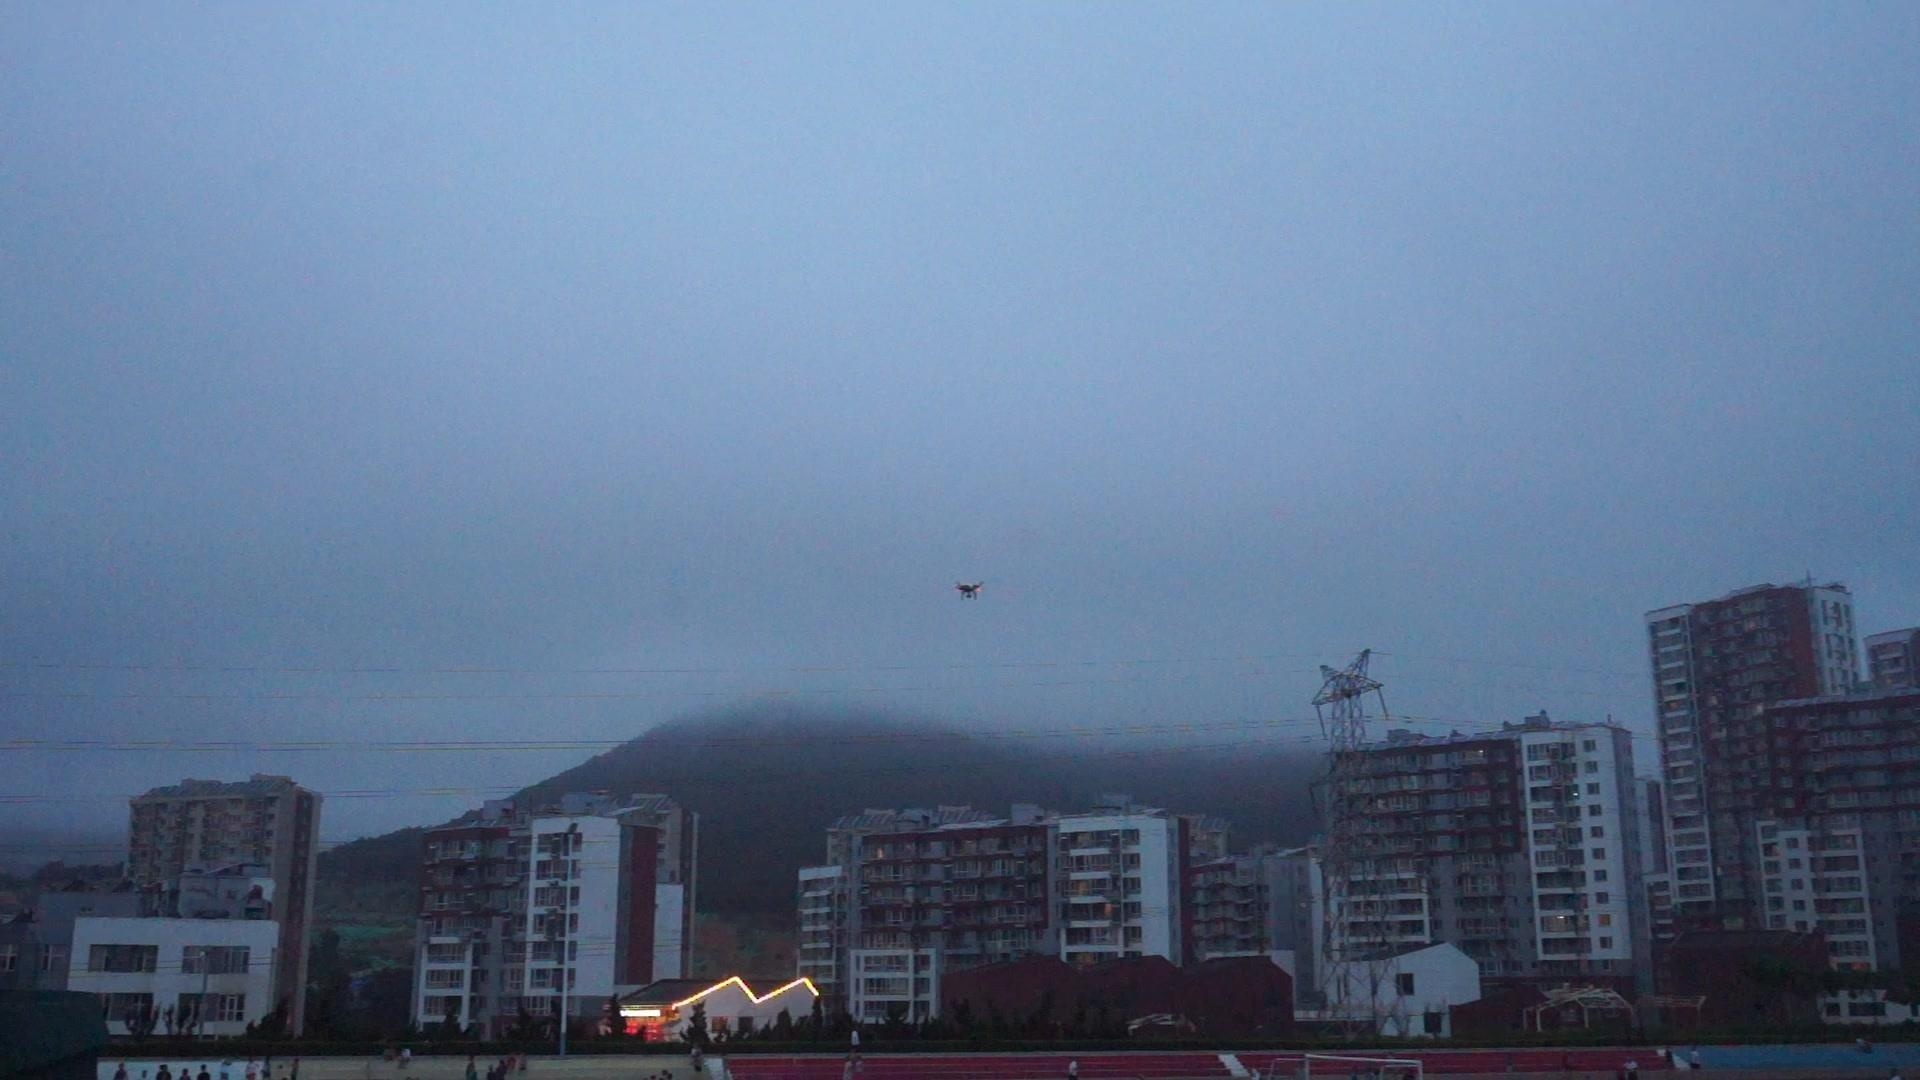UAV: (953, 582, 985, 601)
